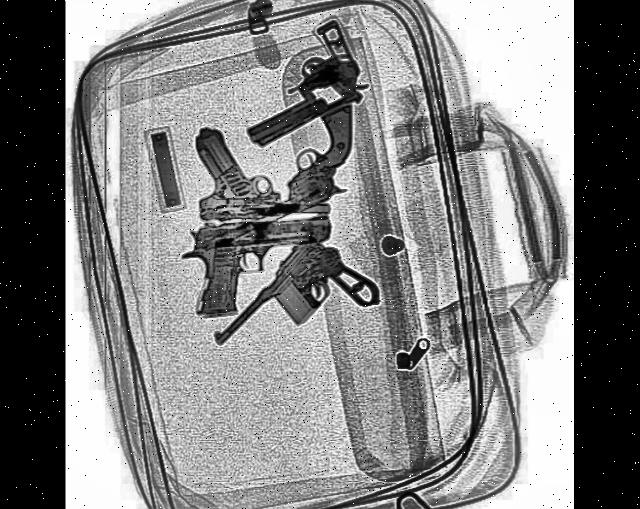Gun: (212, 202, 382, 424), (191, 94, 370, 248), (232, 12, 371, 151), (182, 212, 336, 316), (196, 124, 333, 219)
